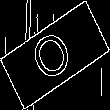O_SE: (29, 22, 81, 88)
